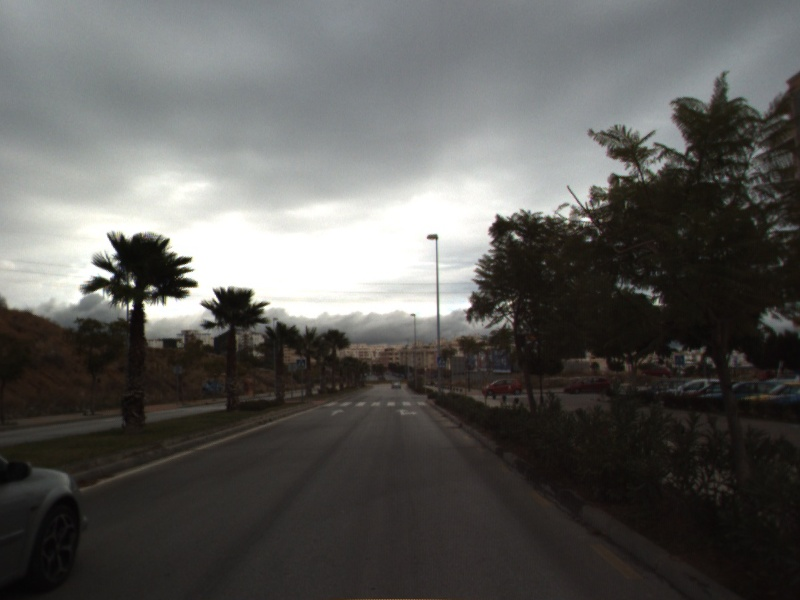STRAIGHT: (329, 406, 347, 418)
STRAIGHT_RIGHT: (393, 406, 420, 417)
